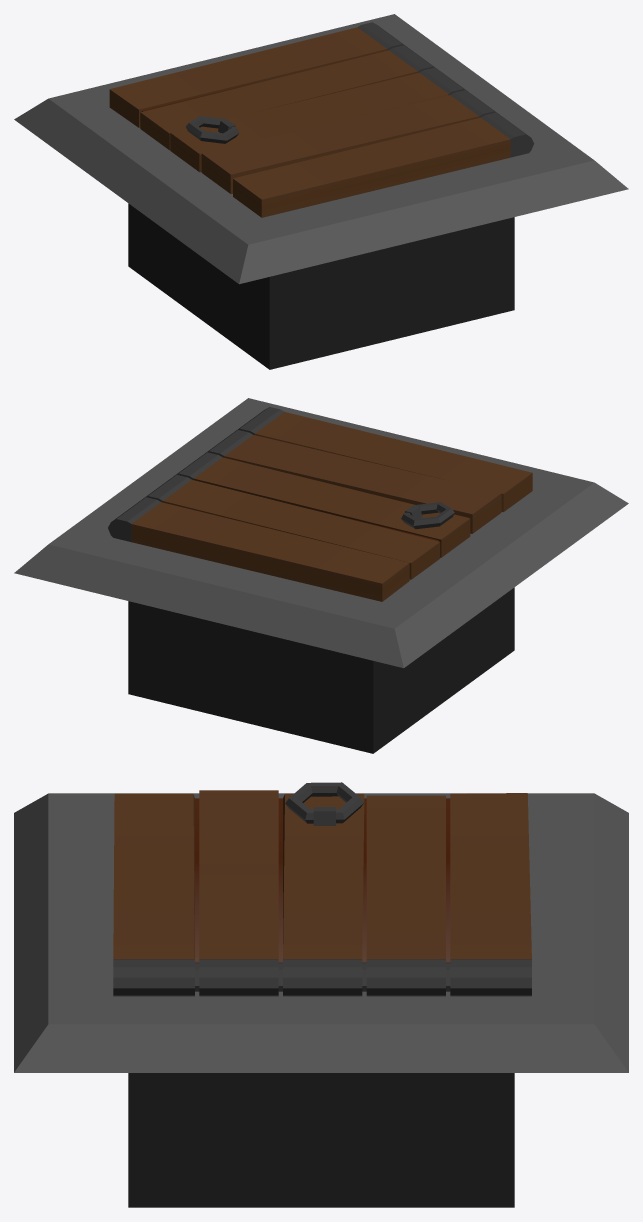
File: Floor_tile_trapdoor_C.fbx
3 renders of one model, top to bottom at view 1: azimuth 30°, elevation 25°; view 2: azimuth 150°, elevation 25°; view 3: azimuth 270°, elevation 25°, orthographic. The views are drawn at different scales.
Visible parts, largest first — view 1: Floor_tile_trapdoor_C, Floor_tile_trapdoor_door; view 2: Floor_tile_trapdoor_C, Floor_tile_trapdoor_door; view 3: Floor_tile_trapdoor_C, Floor_tile_trapdoor_door.
Part boxes in pixels (box(x1,y1,x2,y2)): Floor_tile_trapdoor_C: box(14, 14, 628, 369); Floor_tile_trapdoor_door: box(109, 22, 534, 217); Floor_tile_trapdoor_C: box(14, 398, 628, 753); Floor_tile_trapdoor_door: box(108, 407, 532, 601); Floor_tile_trapdoor_C: box(14, 793, 628, 1207); Floor_tile_trapdoor_door: box(113, 782, 531, 996).
Size of the model in its own units: 100 by 46.66 by 100.
